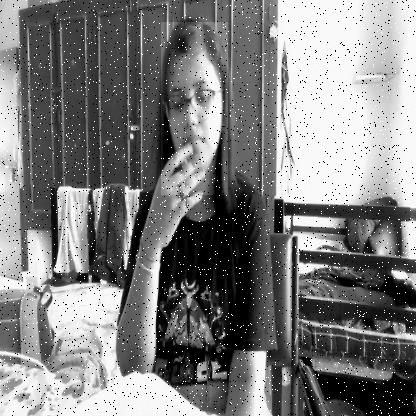Normal: (161, 22, 228, 195)
